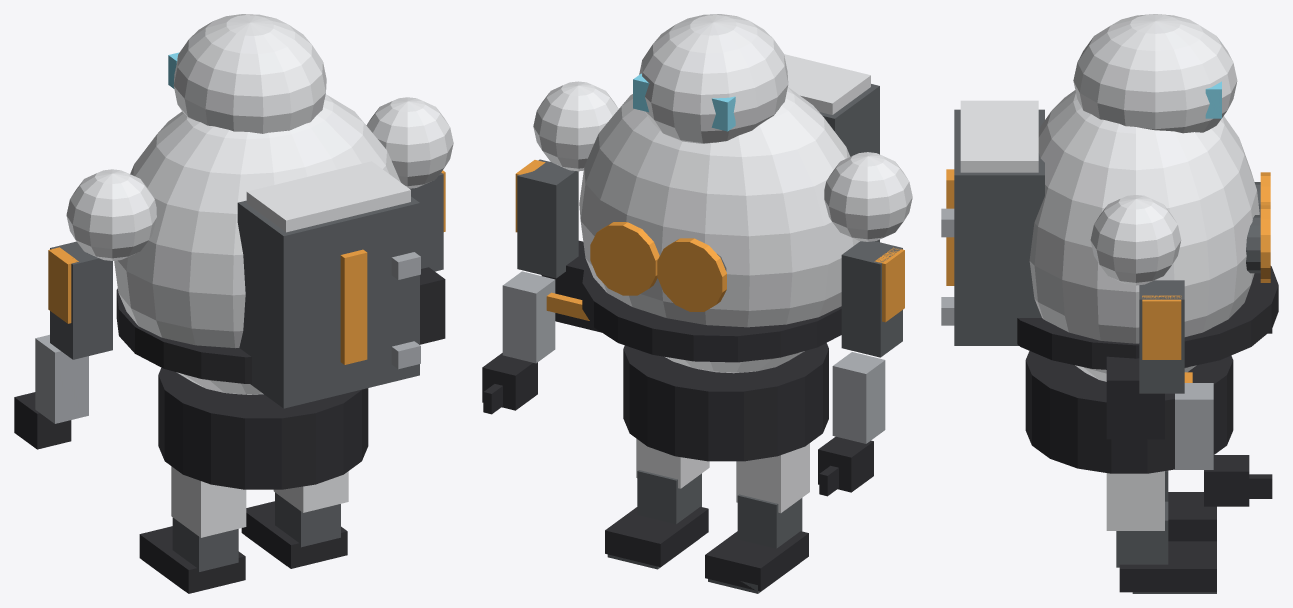
File: SM_Unit_EngineerBot.glb
The picture shows the model from 3 angles, left to right: view 1: azimuth 30°, elevation 25°; view 2: azimuth 150°, elevation 25°; view 3: azimuth 270°, elevation 25°; orthographic projection. The views are drawn at different scales.
Parts seen in each view (by area): view 1: SM_Unit_EngineerBot; view 2: SM_Unit_EngineerBot; view 3: SM_Unit_EngineerBot.
Boxes of the visible parts, x1,y1,x2,y2 form: SM_Unit_EngineerBot: (14, 14, 453, 593); SM_Unit_EngineerBot: (482, 14, 912, 593); SM_Unit_EngineerBot: (941, 14, 1278, 593).
Bounding box in the file's own units: 1.33 × 1.82 × 1.04.
